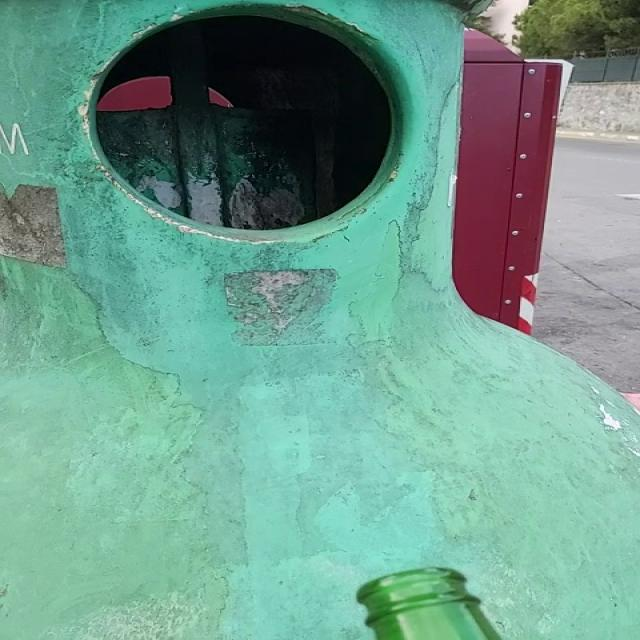glass: (357, 569, 501, 640)
